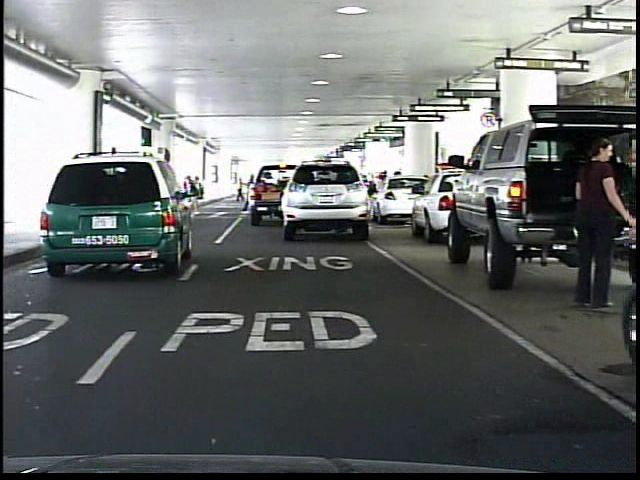person: (559, 133, 626, 315)
